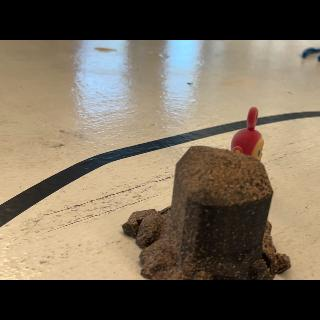teletubby: (231, 107, 264, 161)
